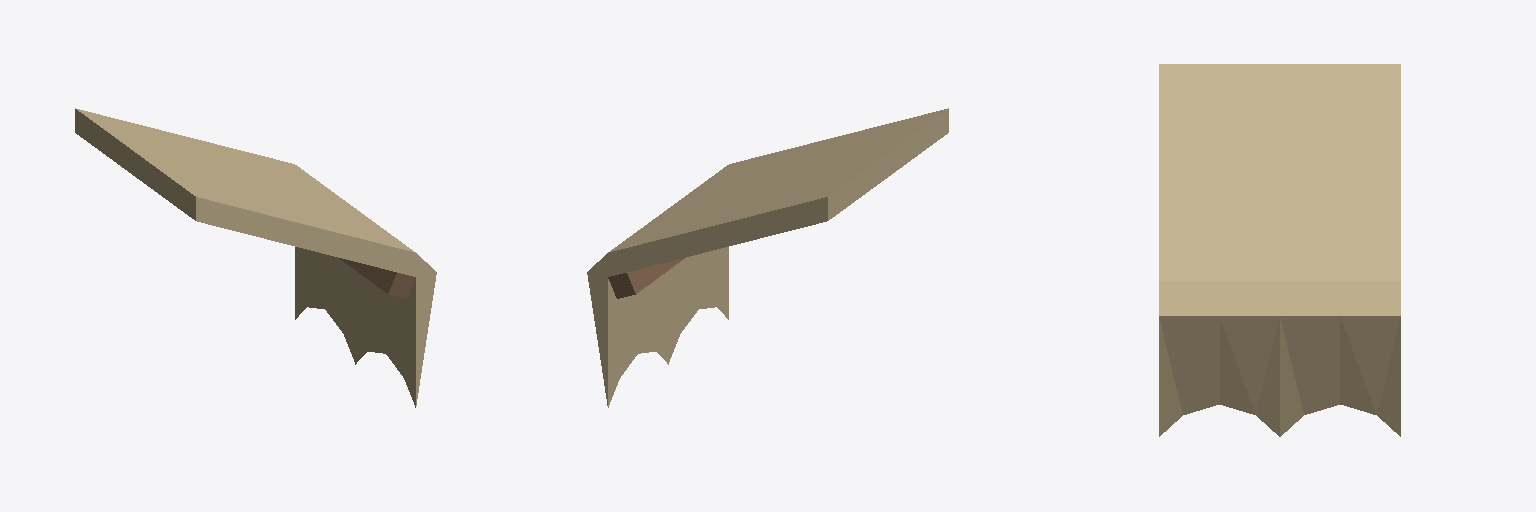
Rendered from Canopy_Ramp_Mid.obj.
The picture shows the model from 3 angles: view 1: azimuth 30°, elevation 25°; view 2: azimuth 150°, elevation 25°; view 3: azimuth 270°, elevation 25°; orthographic projection.
Visible parts, largest first — view 1: object2, object1; view 2: object2, object1; view 3: object2.
Part boxes in pixels (left/top/right/bottom): object2: left=75, top=108, right=436, bottom=407; object1: left=339, top=258, right=415, bottom=298; object2: left=587, top=108, right=948, bottom=407; object1: left=608, top=258, right=684, bottom=298; object2: left=1159, top=64, right=1400, bottom=436.
Size of the model in its own units: 1.15 by 1.21 by 1.